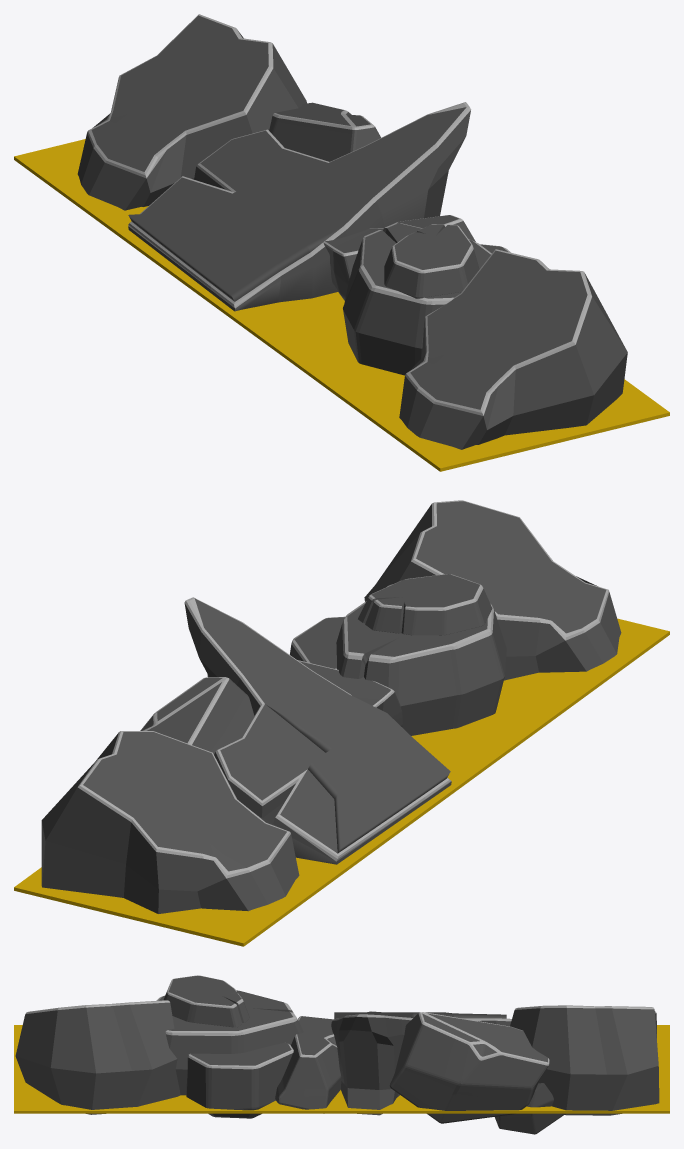
File: Pebble's Road Section 02 Old.fbx
The picture shows the model from 3 angles, top to bottom: view 1: azimuth 30°, elevation 25°; view 2: azimuth 150°, elevation 25°; view 3: azimuth 270°, elevation 25°; orthographic projection. The views are drawn at different scales.
Visible parts, largest first — view 1: Rock_07 (×2), Rock_02, Ground, Rock_10, Rock_13 (×2); view 2: Rock_07 (×2), Rock_02, Rock_10, Ground, Rock_13 (×2); view 3: Rock_07 (×2), Rock_13 (×3), Rock_10, Ground, Rock_02.
Part boxes in pixels (box(x1,y1,x2,y2)): Rock_07 (×2): box(77, 14, 627, 449); Rock_02: box(128, 102, 470, 311); Ground: box(14, 139, 669, 471); Rock_10: box(343, 223, 510, 375); Rock_13 (×2): box(269, 102, 475, 300); Rock_07 (×2): box(41, 500, 621, 913); Rock_02: box(184, 597, 451, 864); Rock_10: box(290, 574, 506, 735); Ground: box(14, 618, 669, 946); Rock_13 (×2): box(140, 660, 402, 754); Rock_07 (×2): box(15, 1000, 659, 1115); Rock_13 (×3): box(275, 1012, 563, 1134); Rock_10: box(156, 975, 303, 1118); Ground: box(14, 1025, 669, 1113); Rock_02: box(331, 1011, 511, 1115).
Size of the model in its own units: 7793 by 5107 by 22500.
